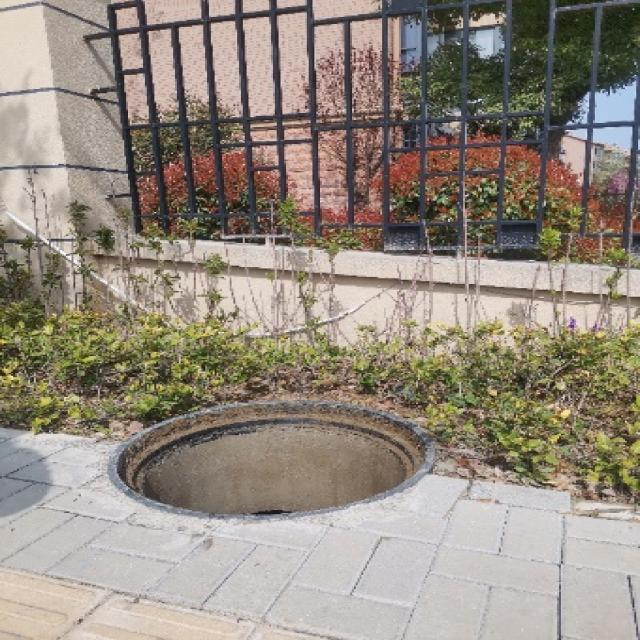Faulty: (86, 386, 460, 530)
